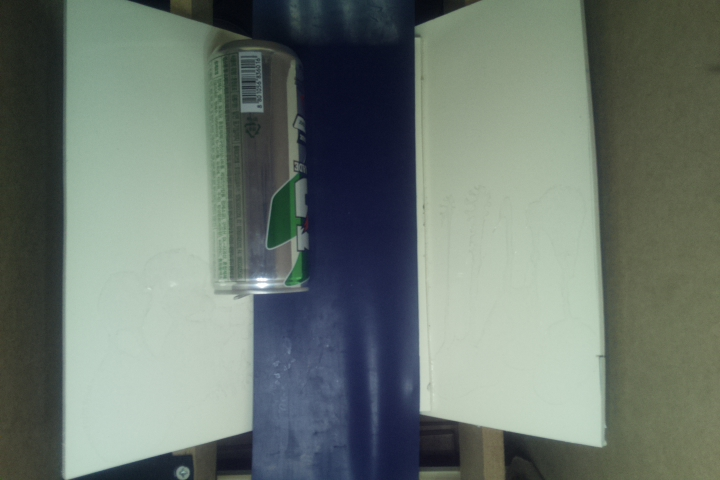can: (205, 40, 309, 299)
